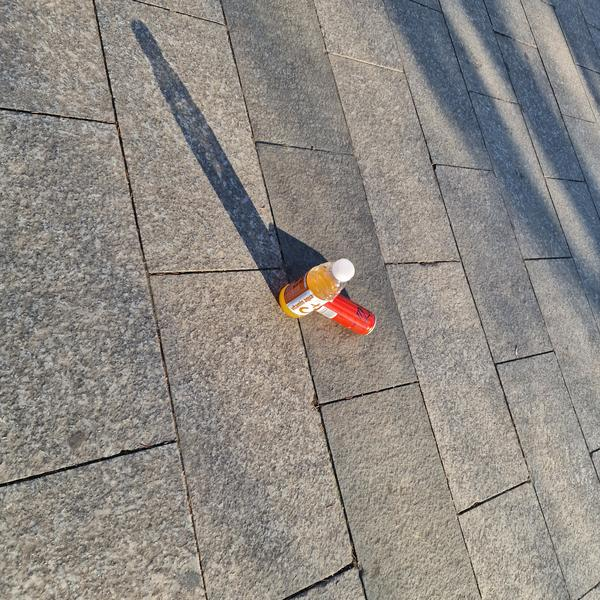can: (314, 288, 380, 340)
plastic_bottle: (272, 248, 363, 325)
